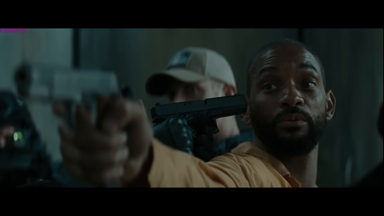firearm: (17, 63, 122, 131), (147, 91, 249, 147)
